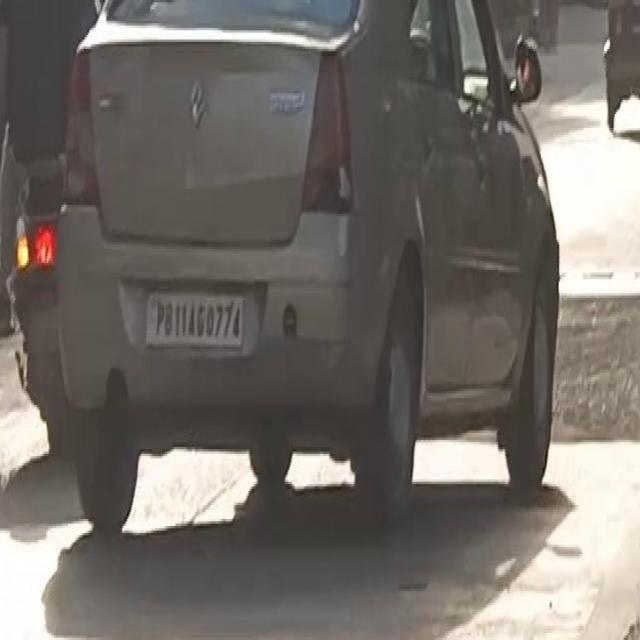Plate: (146, 290, 245, 350)
